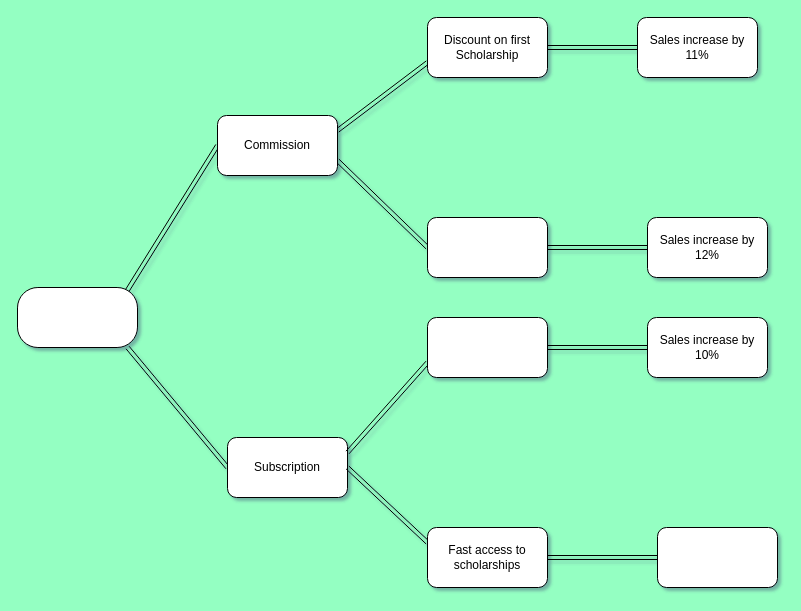
This 801x611 diagram has some shape labels left out. The shapes that lost their labels are listed below. From the top down, each one's centre as x and y in pixels, then its label:
the point at 487,247: Discount vouchers for next scholarship
the point at 77,317: Increase Customers
the point at 487,347: Every month Scholarship test
the point at 717,557: Sales increase by 15%
